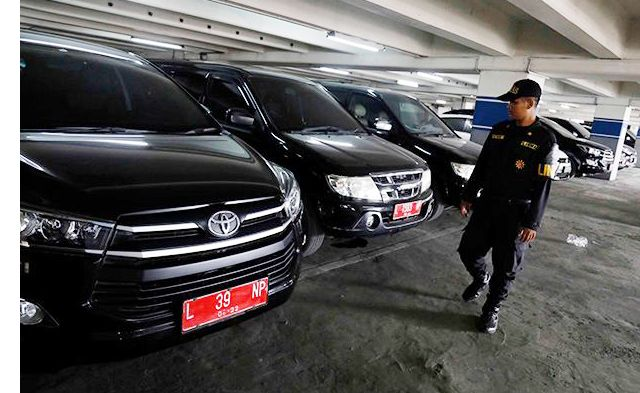plate: (182, 280, 272, 323), (393, 203, 423, 217)
